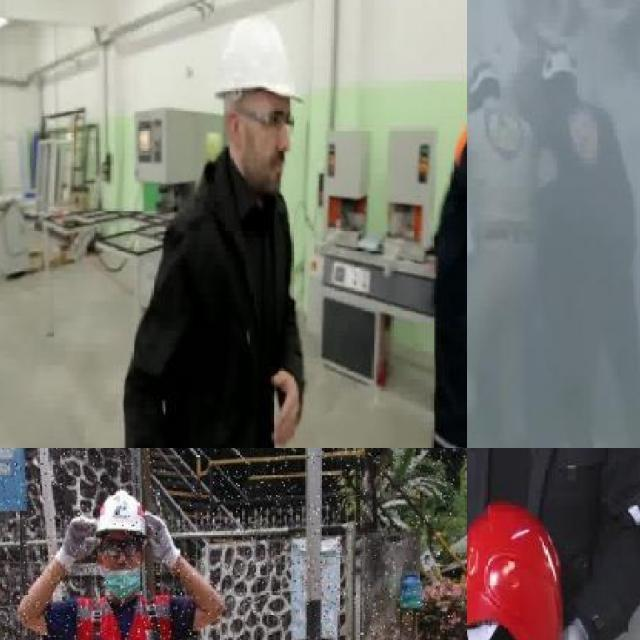apron: (54, 512, 96, 574), (145, 510, 181, 570), (538, 610, 592, 640)
